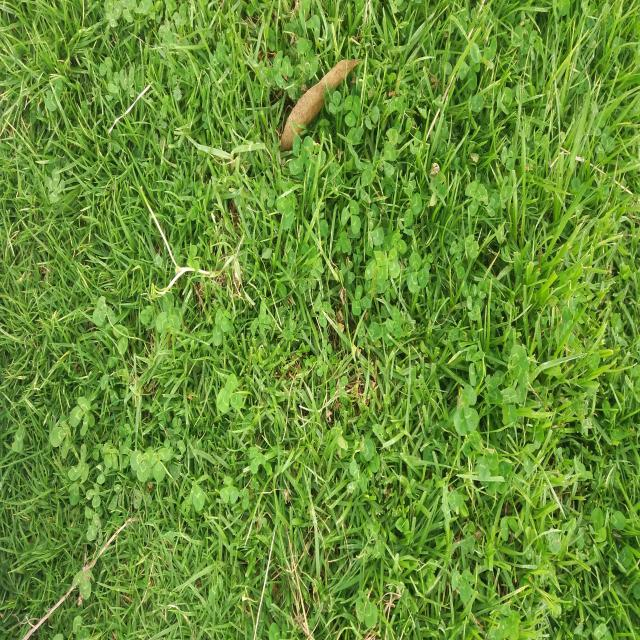Four Leaf Clover: (454, 389, 479, 436), (276, 179, 295, 230), (466, 344, 485, 386), (45, 168, 65, 202), (385, 248, 400, 280)
